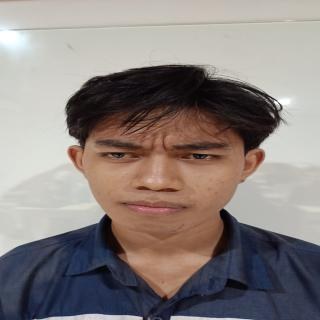Marah: (82, 97, 247, 240)
